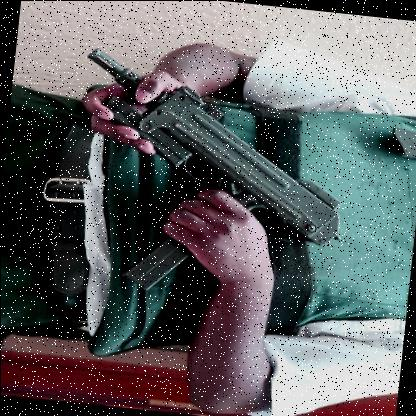rifle: (40, 38, 369, 305)
